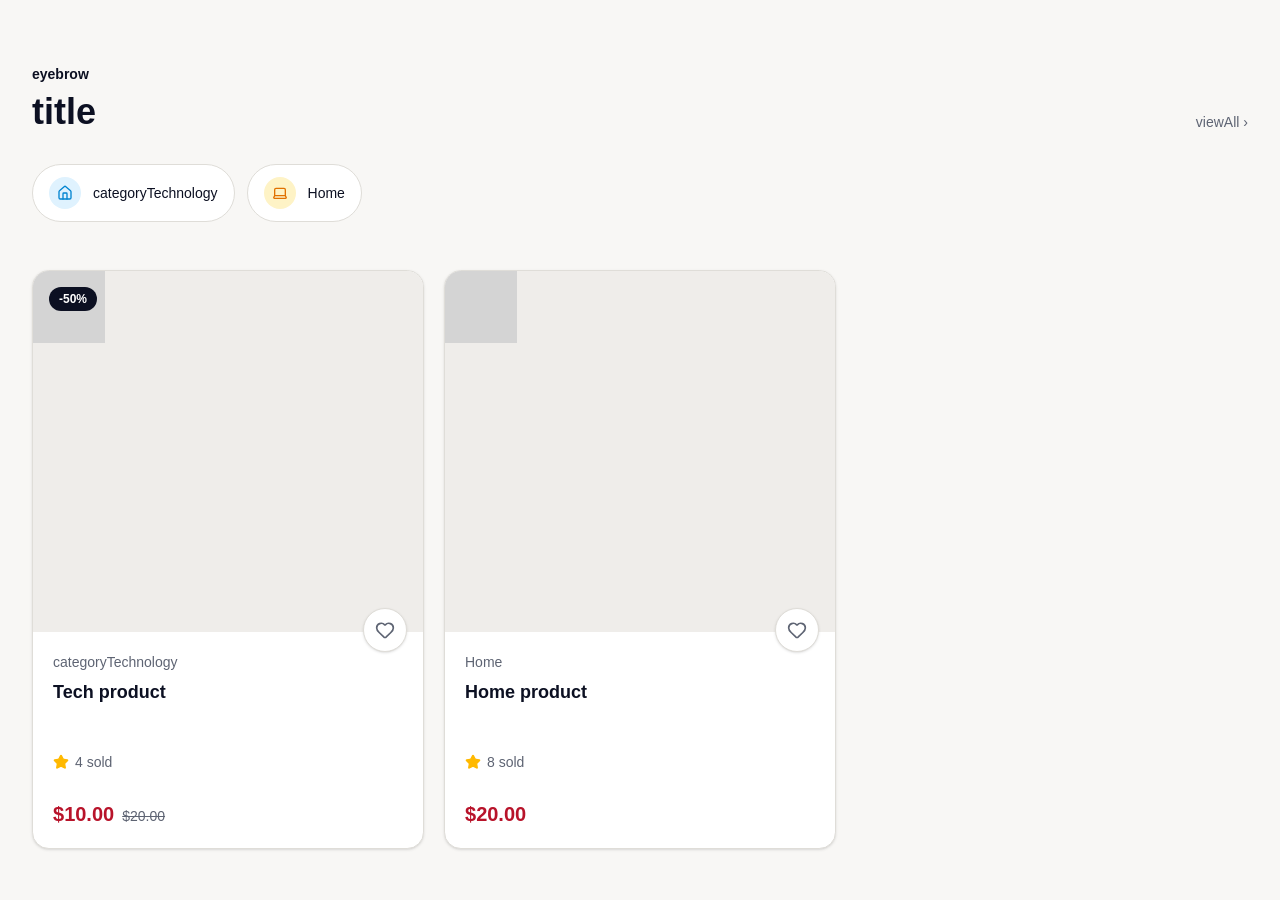
Scenario: EnhancedProductShowcase › filters by the selected real category and clears the filter when selected again
Check: the heading "Tech product" is shown, box [53,682,166,702]
Check: the heading "Home product" is shown, box [465,682,587,702]
Click the button "categoryTechnology": {"x": 133, "y": 193} [32,164,234,222]
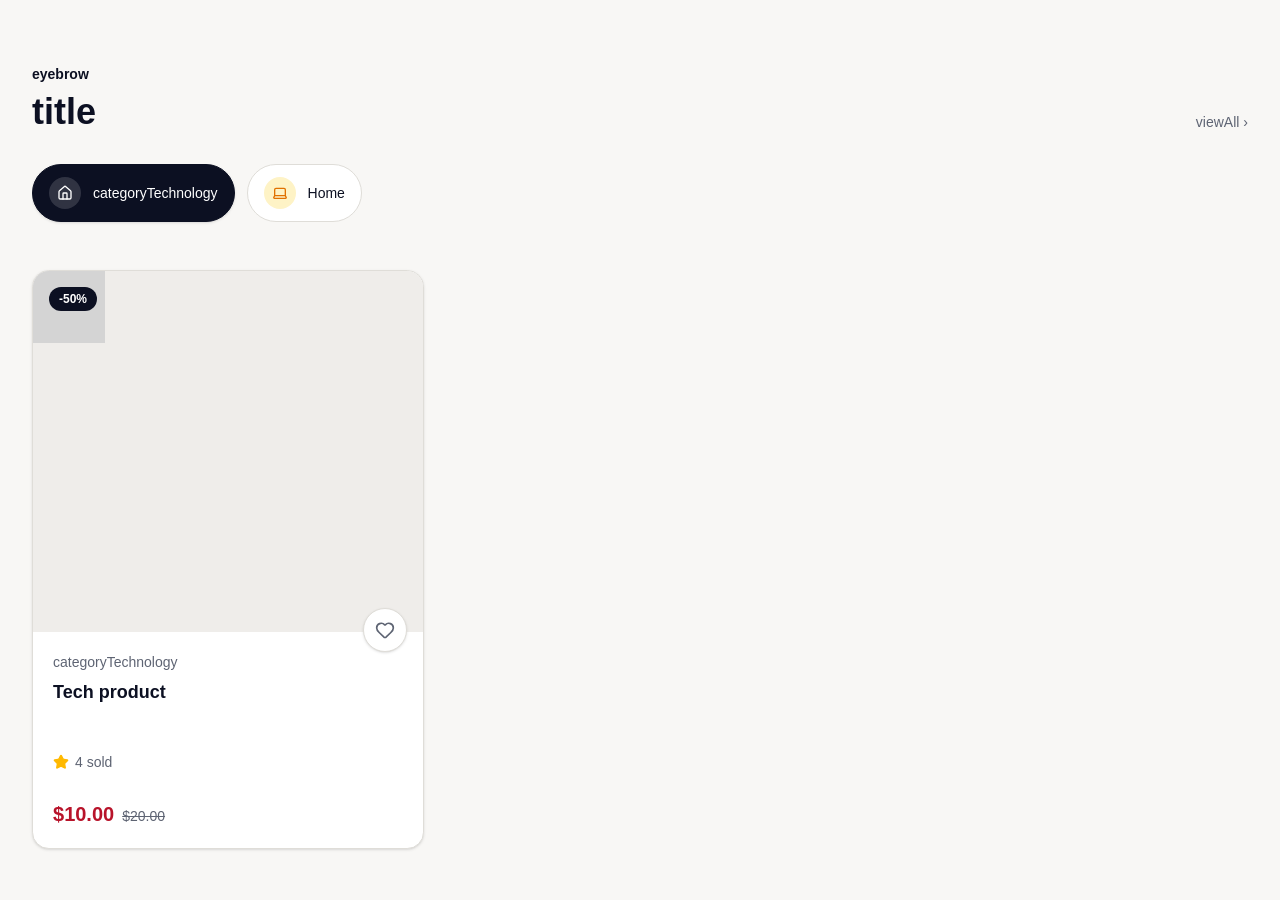
Check: the heading "Tech product" is shown, box [53,682,166,702]
Check: the heading "Home product" is gone
Click the button "categoryTechnology": {"x": 133, "y": 193} [32,164,234,222]
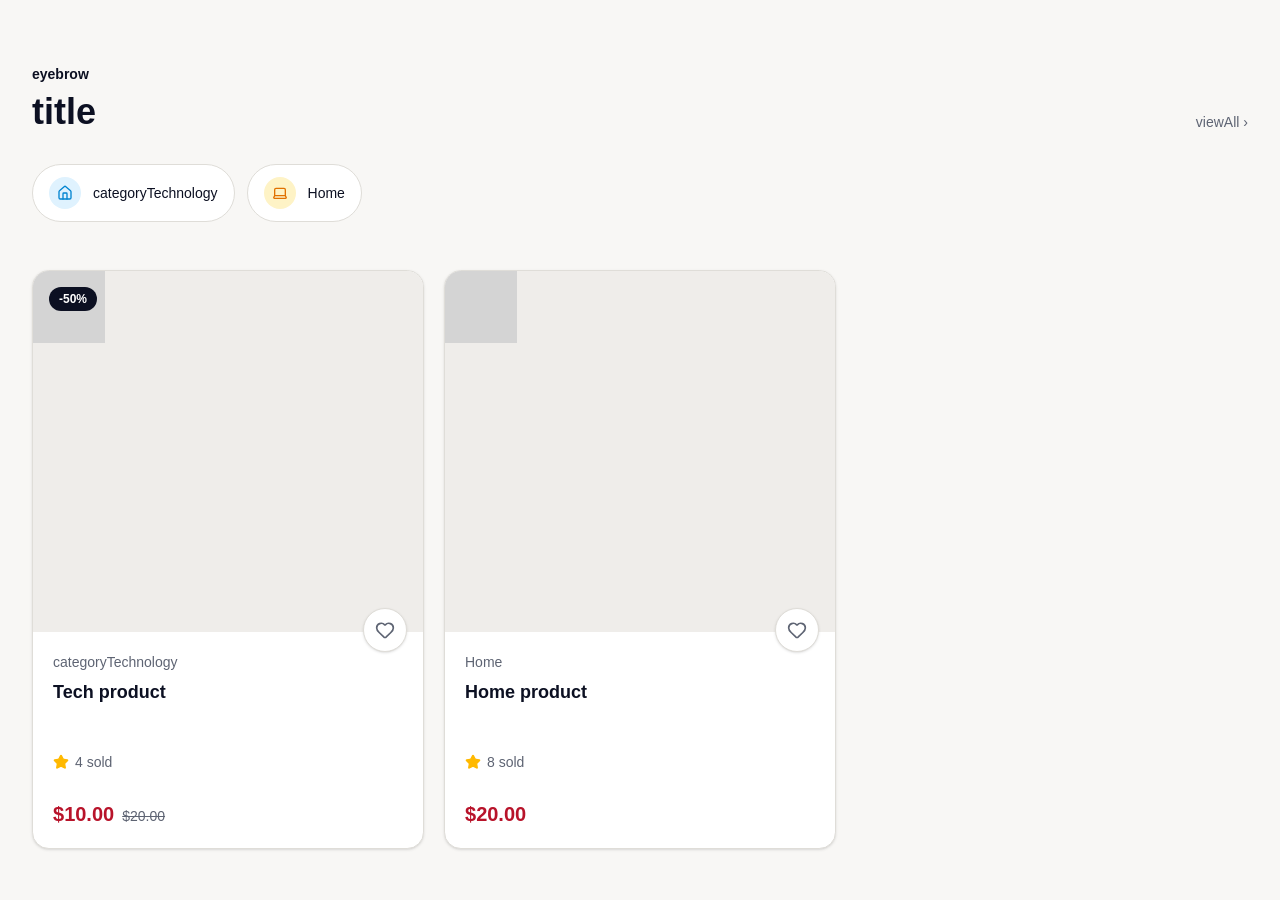
Check: the heading "Home product" is shown, box [465,682,587,702]
